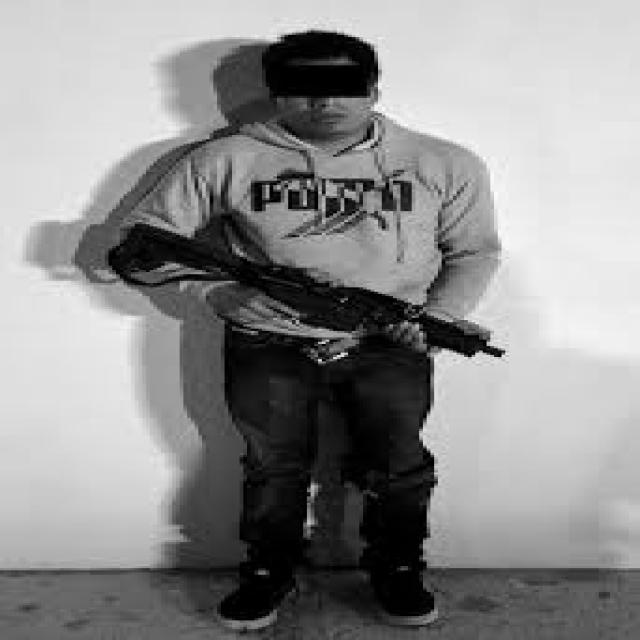rifle: (108, 227, 504, 359)
